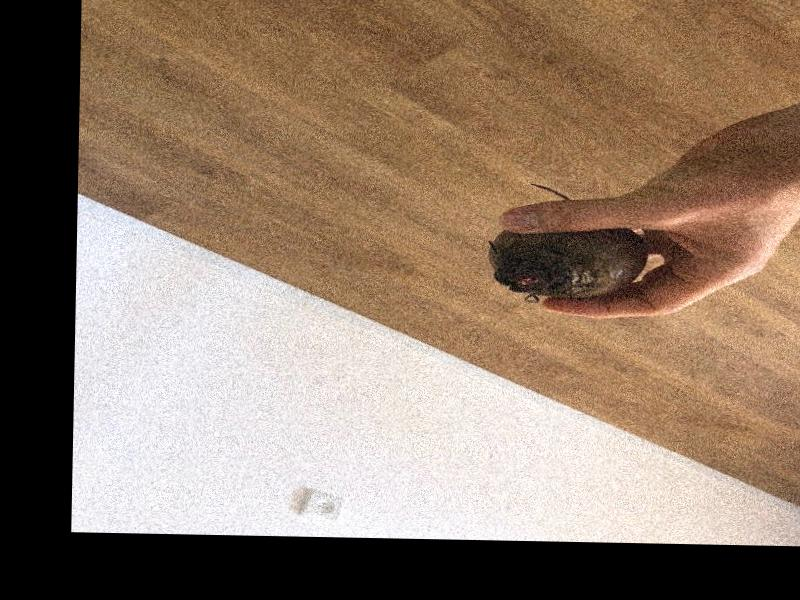Beet: (486, 183, 647, 302)
